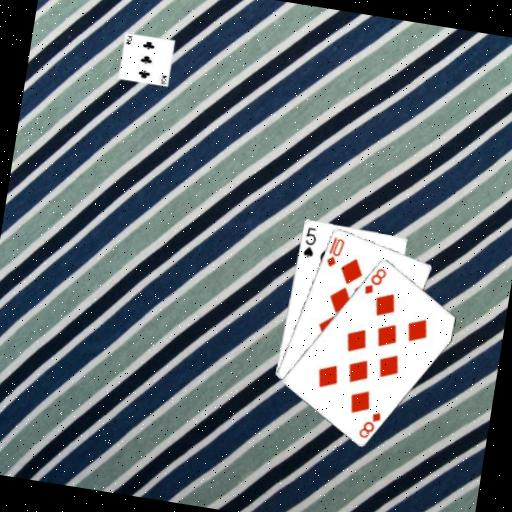10D: (323, 232, 347, 270)
5S: (299, 223, 319, 259)
8D: (359, 262, 388, 298), (354, 406, 383, 441)
